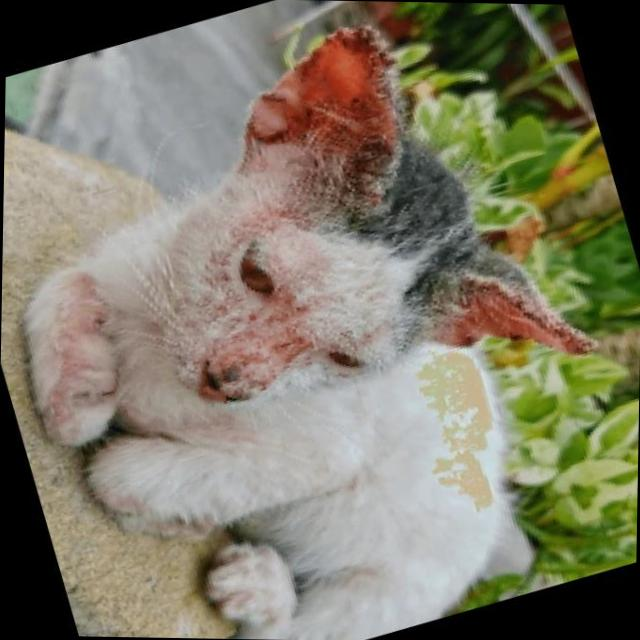Mange: (245, 19, 402, 149), (508, 278, 594, 355), (220, 336, 270, 383), (266, 329, 316, 366), (206, 266, 239, 299), (286, 296, 322, 326), (237, 308, 270, 330)
